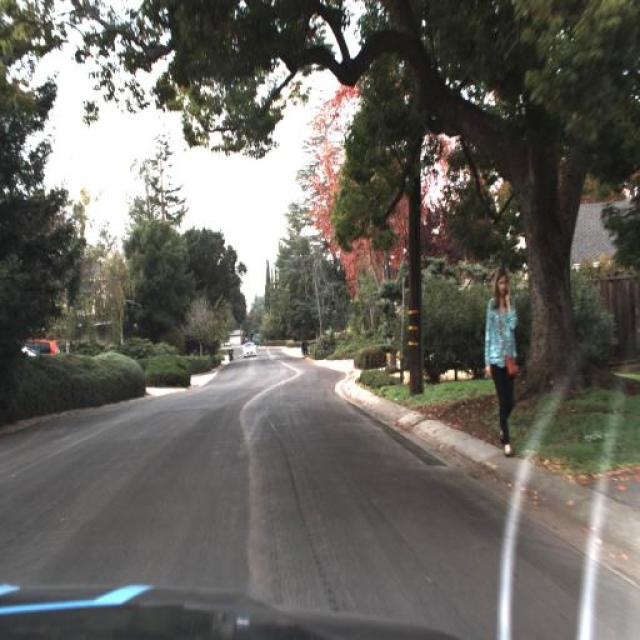car: (242, 342, 256, 358)
trafficLight: (486, 265, 518, 459)
